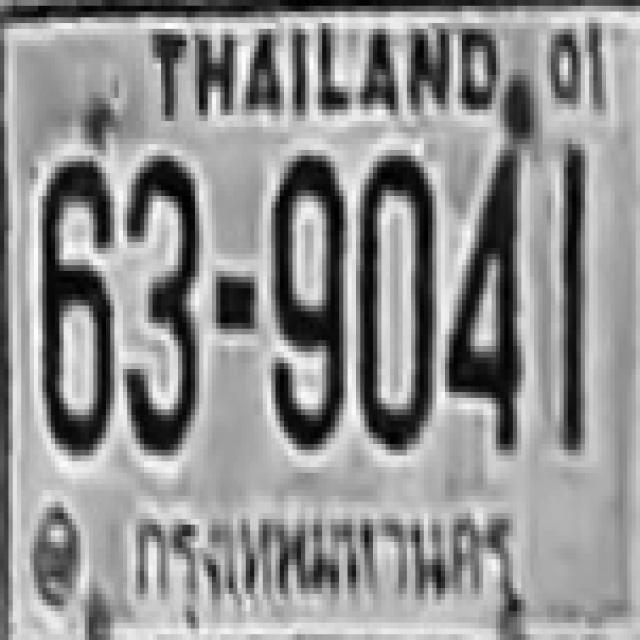0: (356, 150, 432, 444)
3: (123, 150, 195, 450)
4: (443, 141, 519, 447)
6: (38, 156, 110, 444)
9: (269, 150, 341, 444)
Bangkok: (126, 498, 512, 630)
